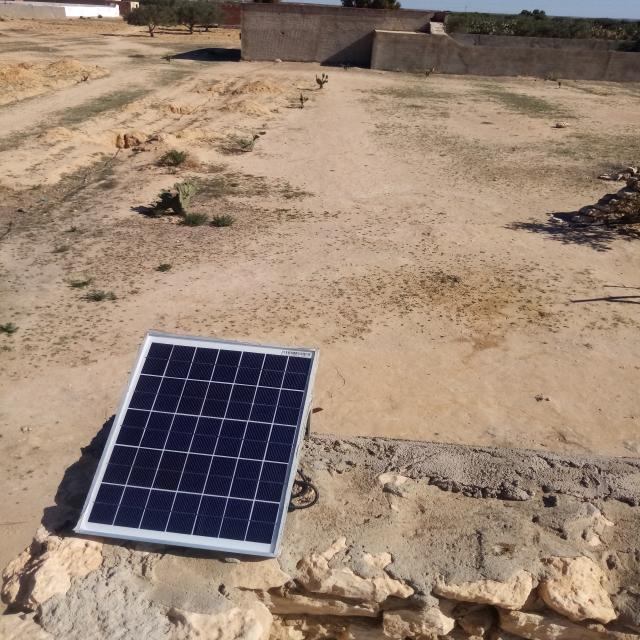no faulty: (75, 332, 319, 557)
